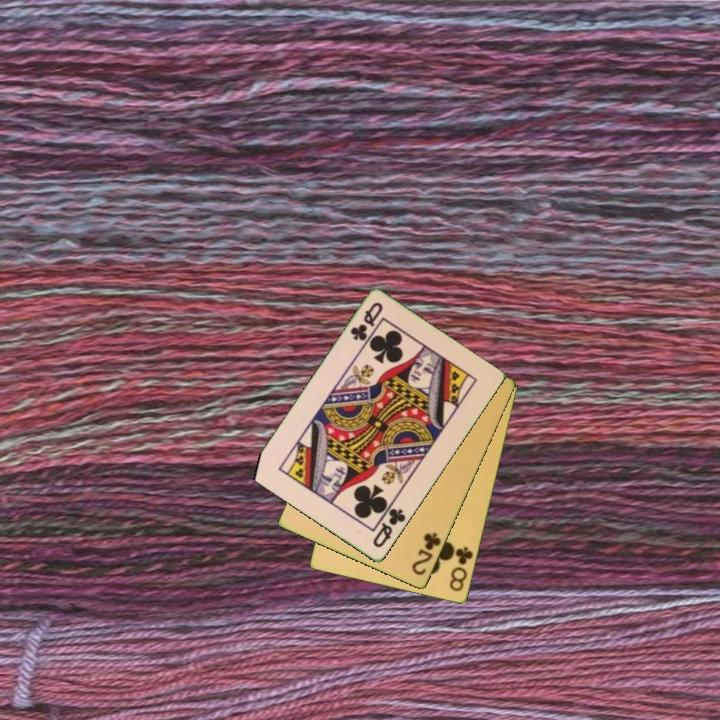2c: (408, 529, 444, 579)
8c: (446, 543, 476, 595)
Qc: (369, 500, 409, 551), (347, 299, 386, 344)
